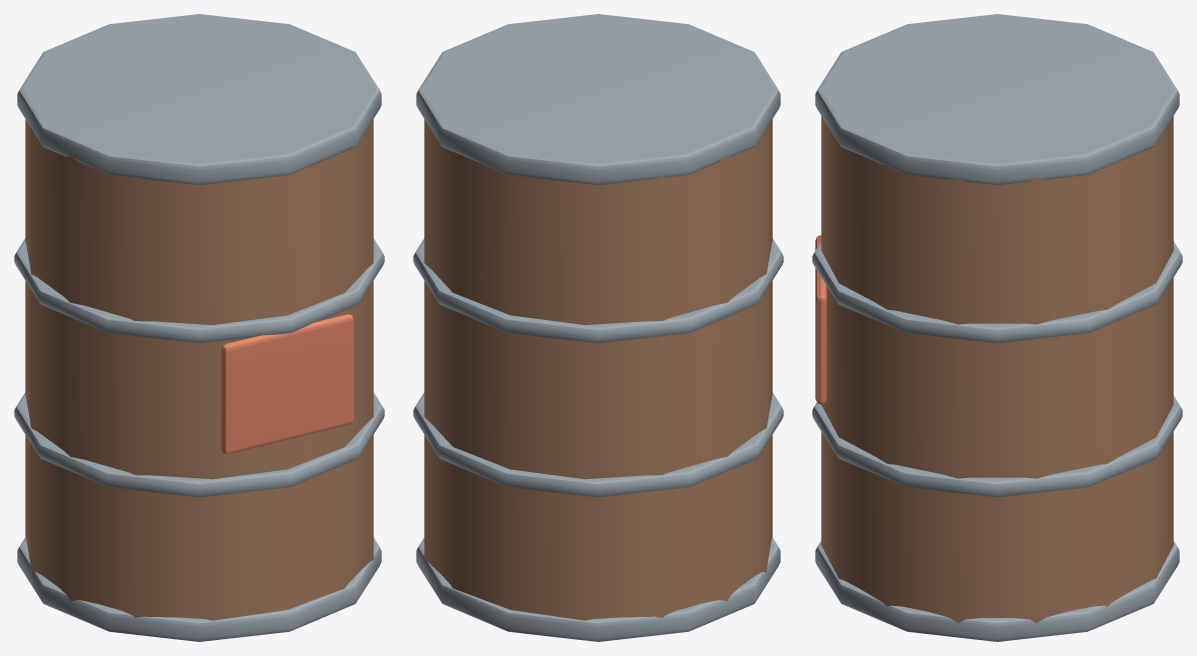
The model's file is oil_drum.glb.
3 renders of one model, left to right at view 1: azimuth 30°, elevation 25°; view 2: azimuth 150°, elevation 25°; view 3: azimuth 270°, elevation 25°, orthographic.
Parts seen in each view (by area): view 1: oil_drum; view 2: oil_drum; view 3: oil_drum.
Boxes of the visible parts, x1,y1,x2,y2 form: oil_drum: [14, 14, 384, 641]; oil_drum: [413, 14, 783, 641]; oil_drum: [812, 14, 1182, 641].
Bounding box in the file's own units: 0.61 × 0.87 × 0.61.
